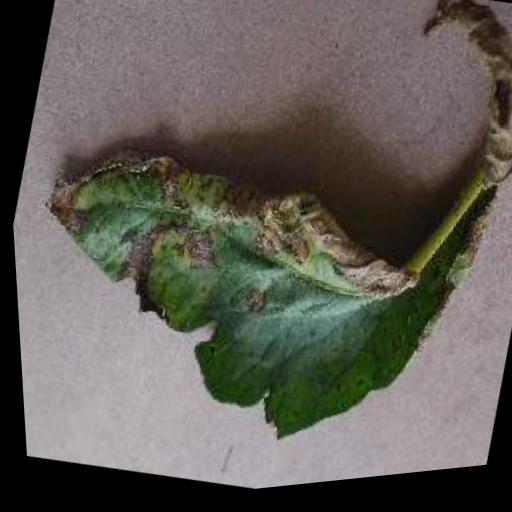Early Blight: (0, 0, 512, 509)
